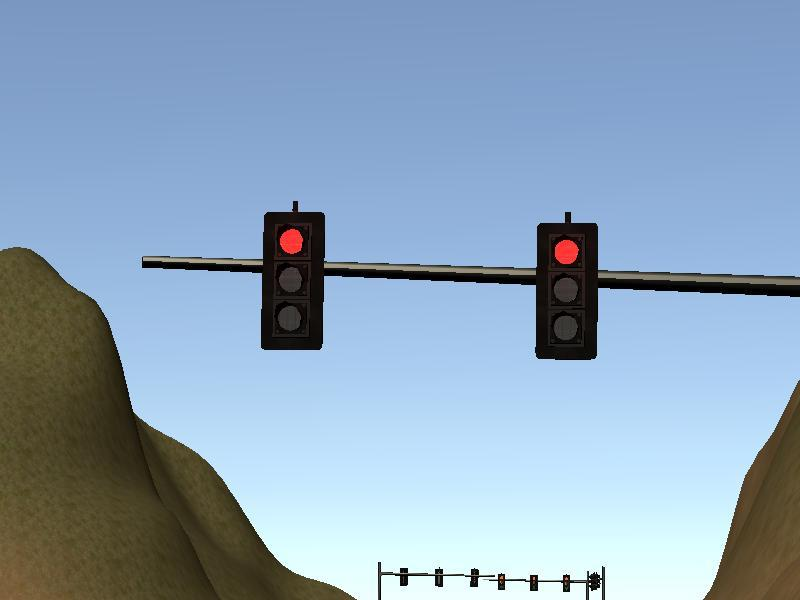Red: (261, 213, 322, 349), (536, 223, 597, 359), (561, 574, 571, 592), (530, 573, 537, 594), (498, 572, 505, 592)
